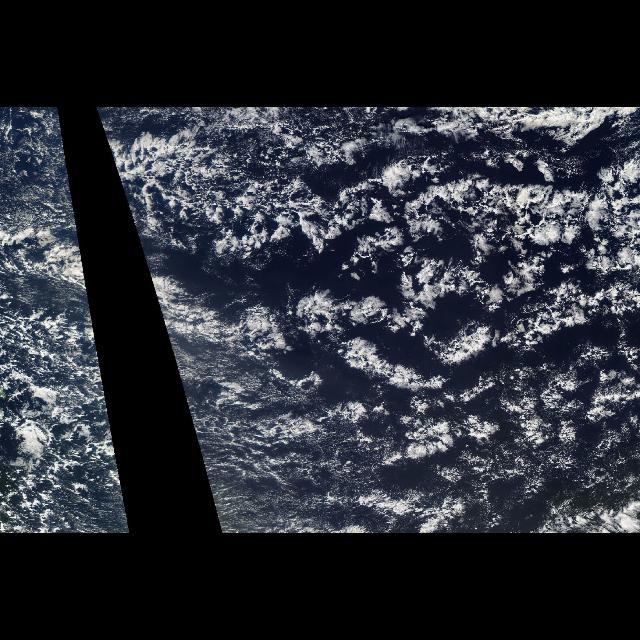Fish: (153, 144, 639, 440)
Flower: (294, 273, 638, 487)
Gravel: (0, 222, 130, 532), (132, 108, 340, 238)
Sugar: (170, 346, 360, 534), (0, 107, 76, 223)
